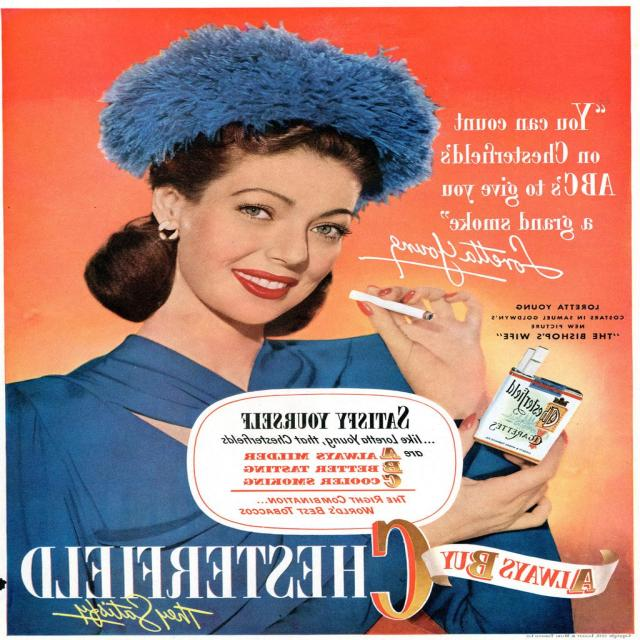smoking: (112, 72, 495, 380)
